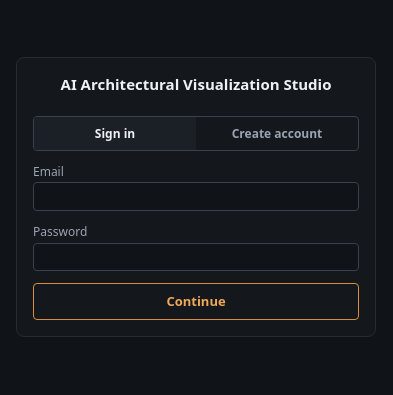
it: AuthGate — RELEASE 02 sign-in/register screen › shows the real error envelope, not a fake success, when sign-in fails
In the field labelled "Email": point(196, 197) [33,182,359,211], type "x@example.com"
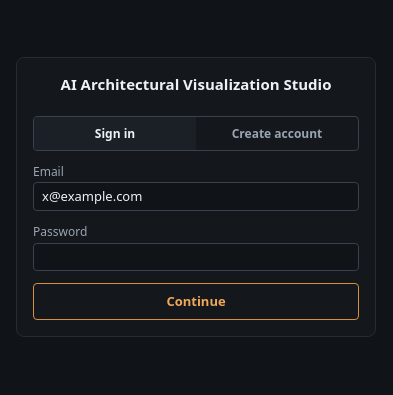
In the password field labelled "Password": point(196, 257) [33,242,359,271], type "wrong"
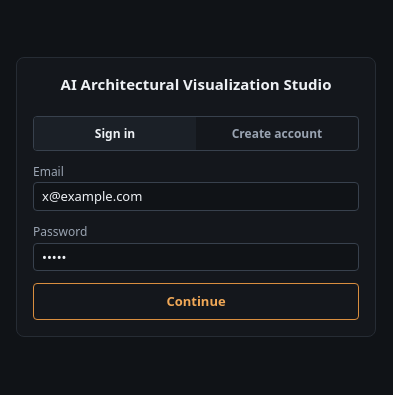
Click the button "Continue": point(196, 302) [33,283,359,320]
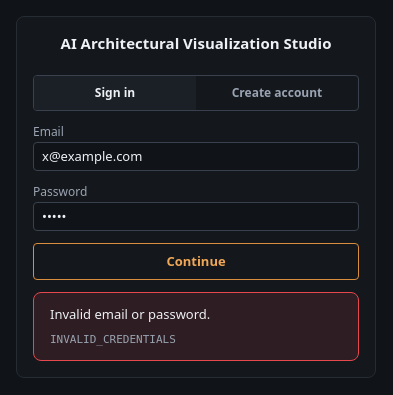
Check: the message shows "Invalid email or password.", box [50,305,210,323]
